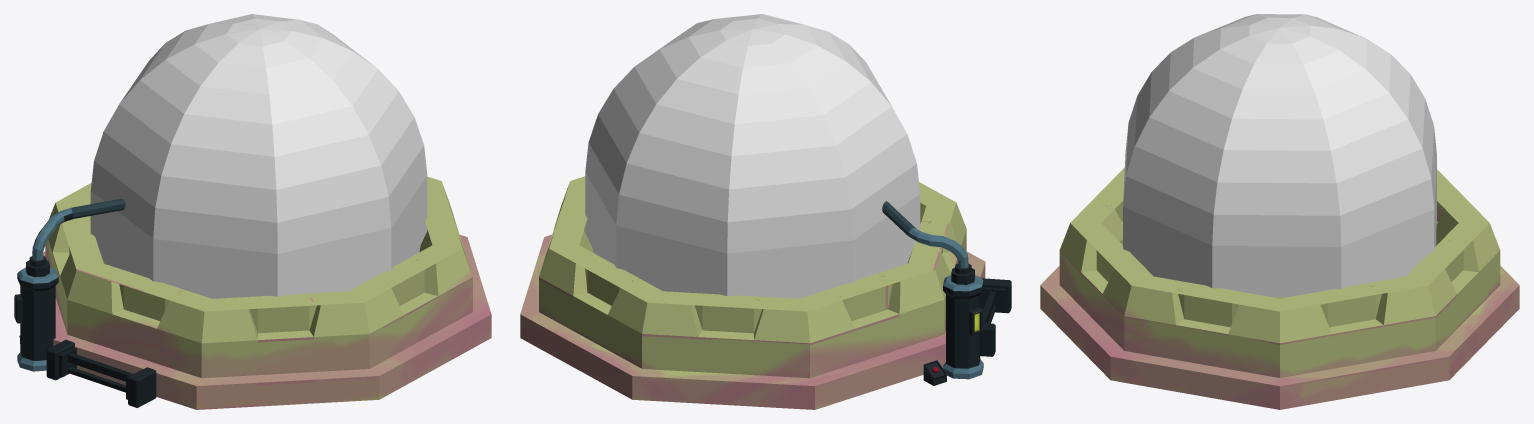
The model's file is oxygen.fbx.
3 views of the same model, side by side, from view 1: azimuth 30°, elevation 25°; view 2: azimuth 150°, elevation 25°; view 3: azimuth 270°, elevation 25° (orthographic).
Parts seen in each view (by area): view 1: champ_ferme.002, ferme_base.001, battery_ferme.004, pipe_ferme.002; view 2: champ_ferme.002, ferme_base.001, battery_ferme.004, pipe_ferme.002; view 3: champ_ferme.002, ferme_base.001.
Boxes of the visible parts, <box> form: champ_ferme.002: <box>90,14,427,298</box>; ferme_base.001: <box>43,176,491,409</box>; battery_ferme.004: <box>14,198,125,371</box>; pipe_ferme.002: <box>46,339,156,407</box>; champ_ferme.002: <box>585,14,920,298</box>; ferme_base.001: <box>520,176,985,409</box>; battery_ferme.004: <box>882,201,983,385</box>; pipe_ferme.002: <box>980,278,1011,356</box>; champ_ferme.002: <box>1123,14,1436,298</box>; ferme_base.001: <box>1040,168,1519,409</box>.
Bounding box in the file's own units: 1497 × 916 × 1404.
